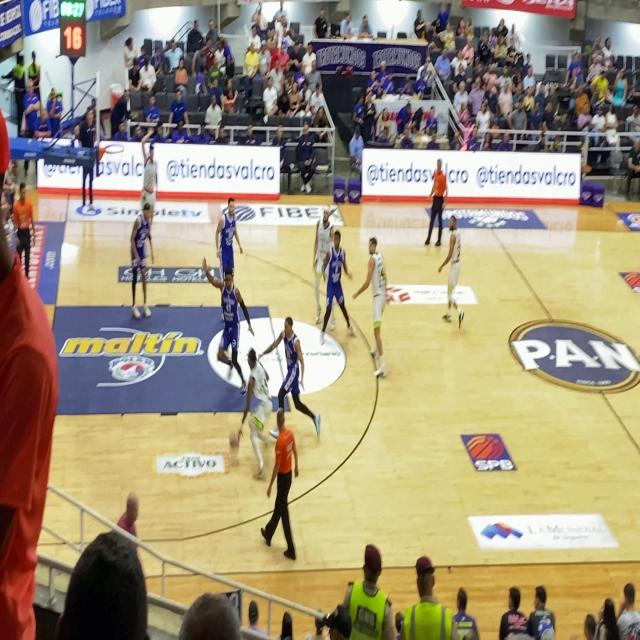Ball: (230, 431, 242, 454)
referee: (261, 406, 303, 559), (419, 148, 447, 272), (6, 178, 38, 268)
team1: (358, 225, 392, 373), (429, 197, 466, 326), (239, 339, 271, 478), (134, 137, 161, 203), (314, 203, 333, 281)
team2: (273, 306, 321, 410), (206, 261, 244, 390), (130, 194, 158, 331), (322, 225, 350, 348), (218, 194, 244, 283)
ubasket: (103, 142, 126, 162)
